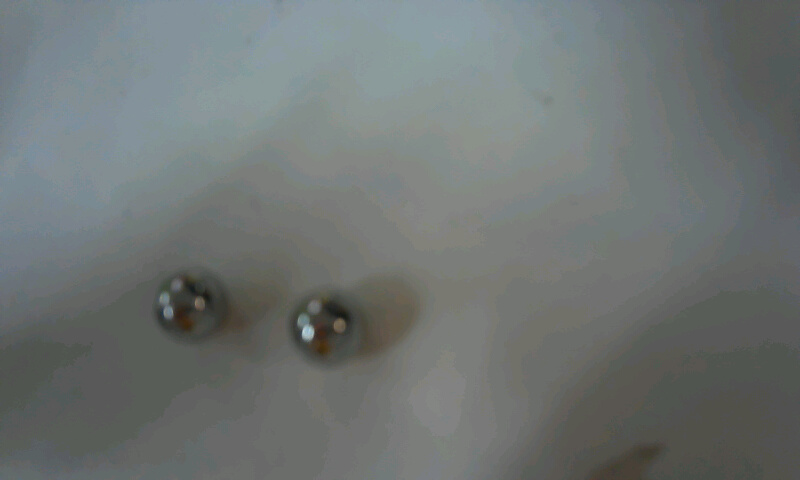steelball: (280, 274, 373, 369), (147, 258, 240, 350)
